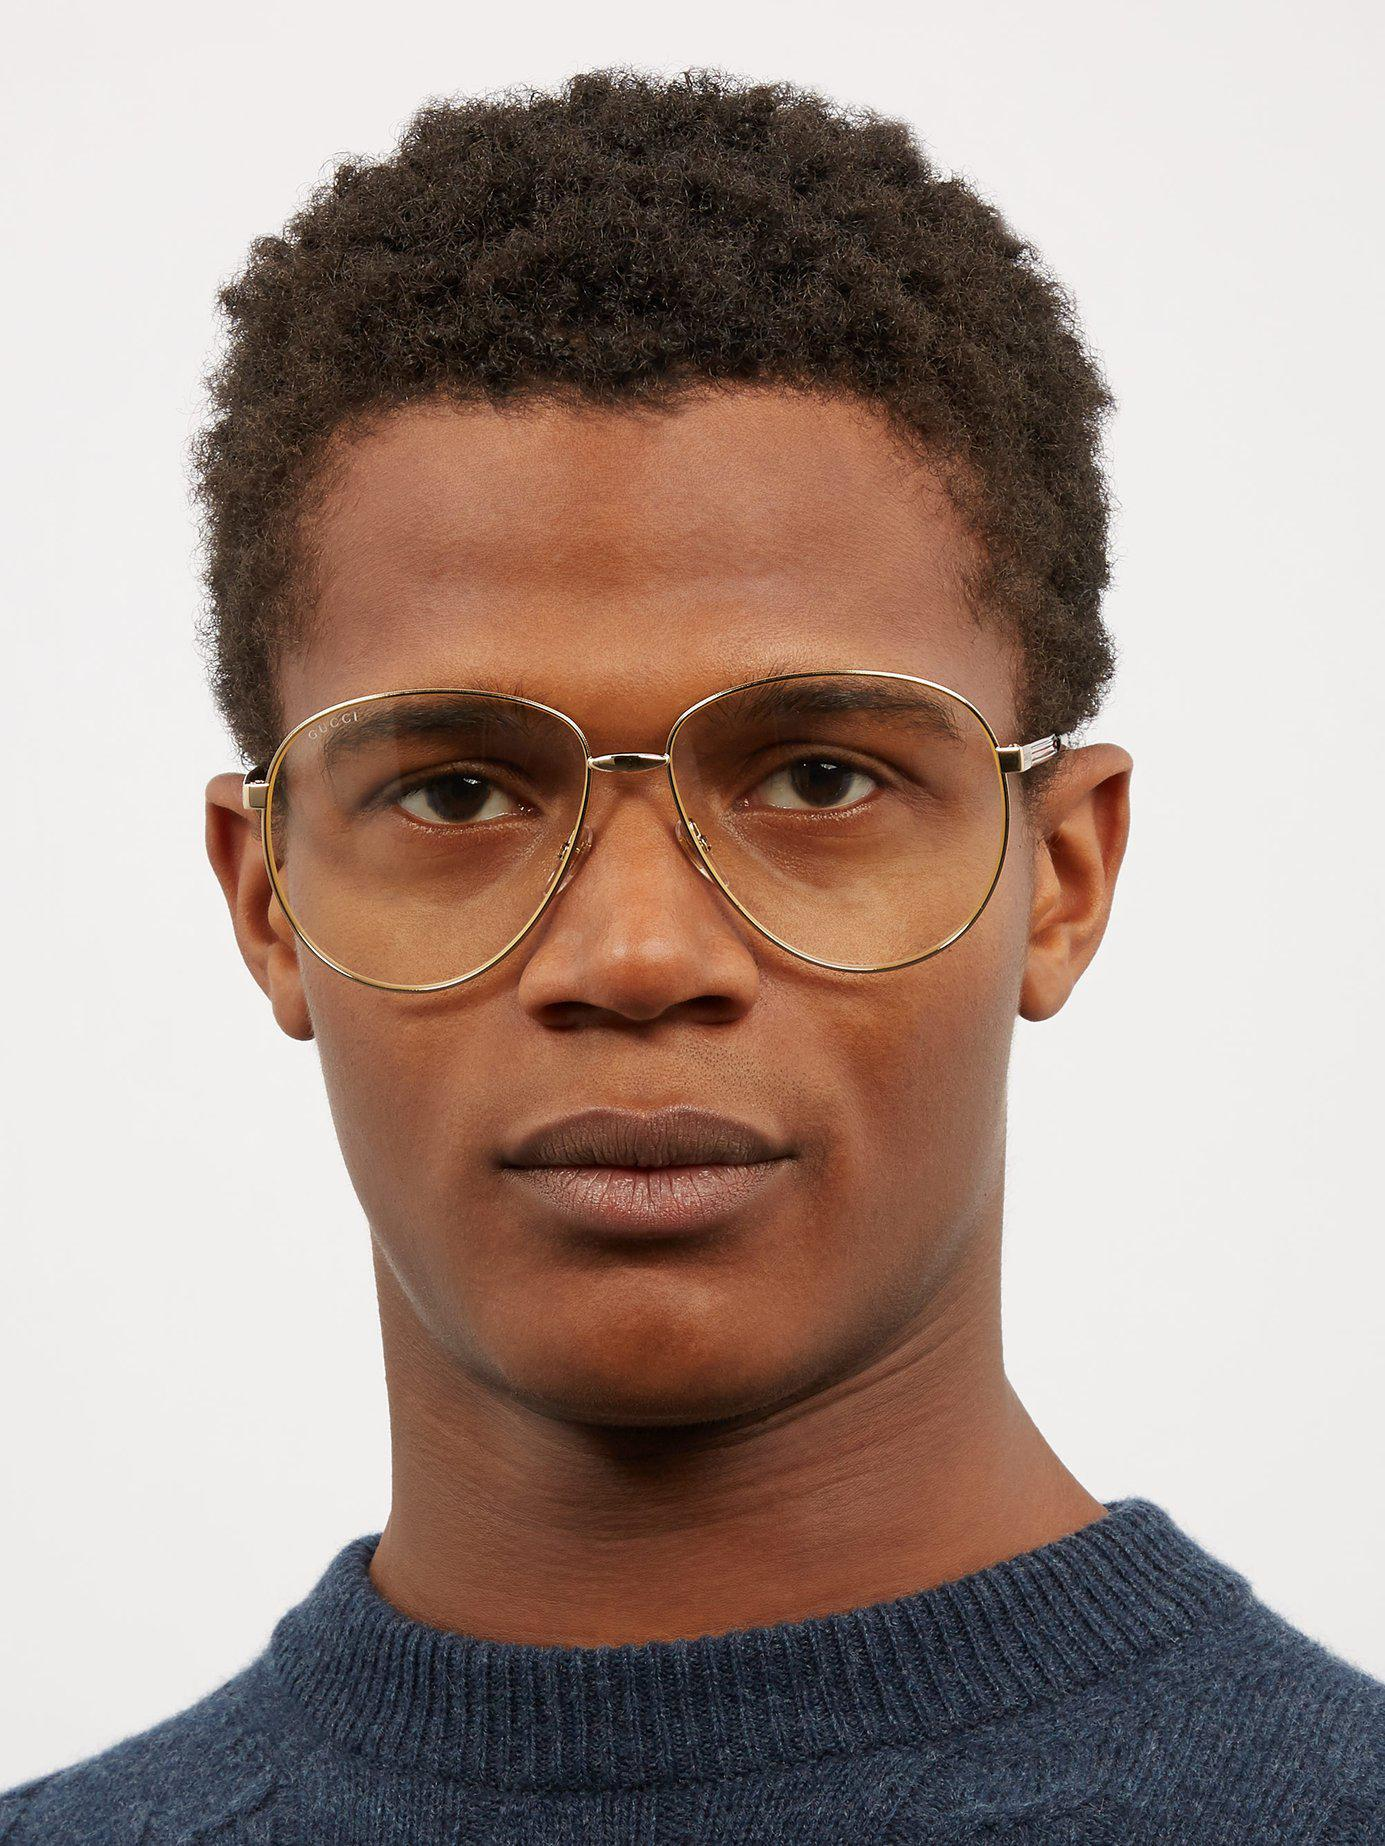llen: (668, 671, 1008, 970)
rlen: (262, 690, 591, 989)
